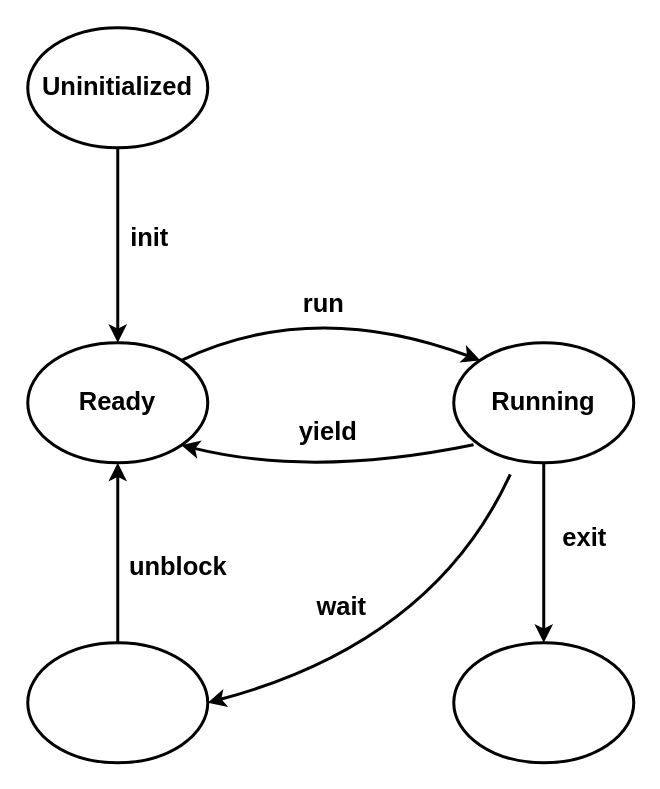
Image size: 660x789. Some labels were removed from this diagram. Here are the shapes that lost their labels. From the top down, the centre of each, then its label:
point 117,702: Block
point 543,702: Exited
